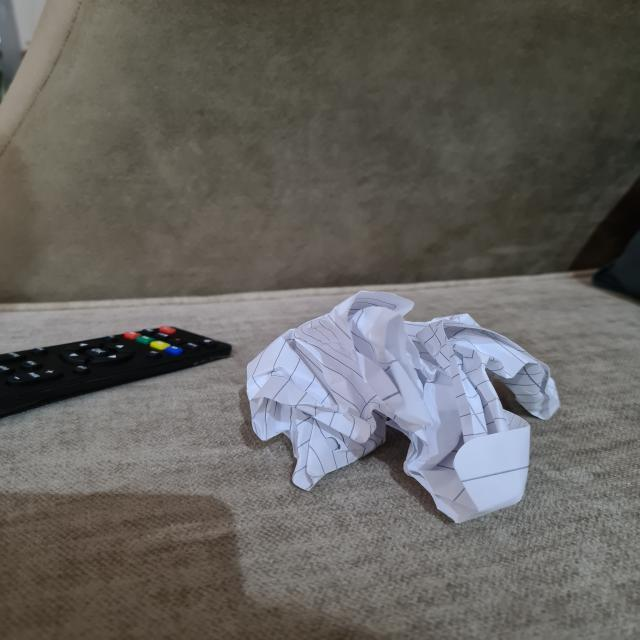Paper: (248, 298, 559, 515)
